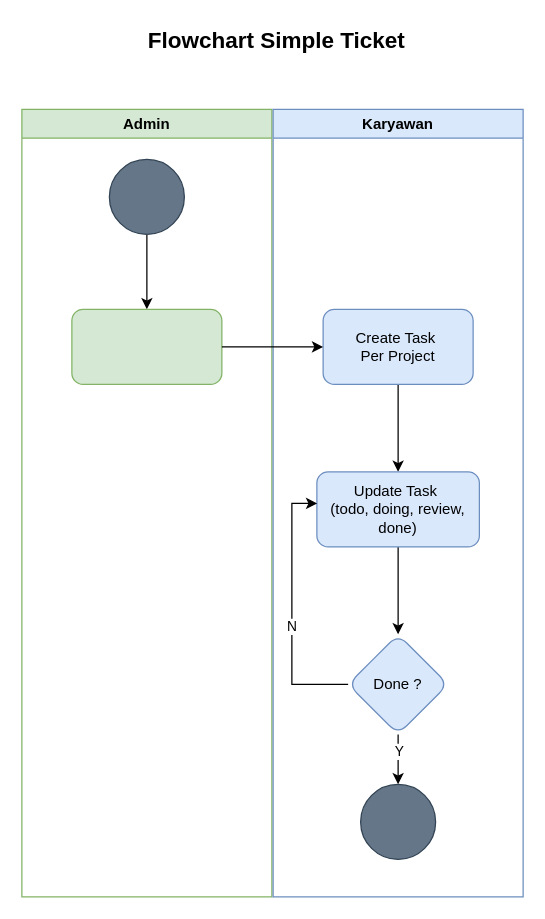
The diagram is 545 pixels wide and 919 high, and some of its shapes have lost their labels. The shapes that lost their labels are listed below. From the top down, each one's centre as x and y in pixels, then its label:
(146,196): Mulai
(146,346): Create Project (Deadline)
(397,821): Selesai
